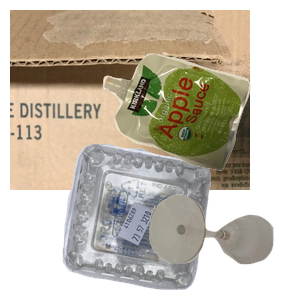cardboard: (10, 10, 250, 190)
glass: (147, 192, 300, 300)
plastic: (60, 141, 263, 300)
trash: (100, 51, 300, 214)
